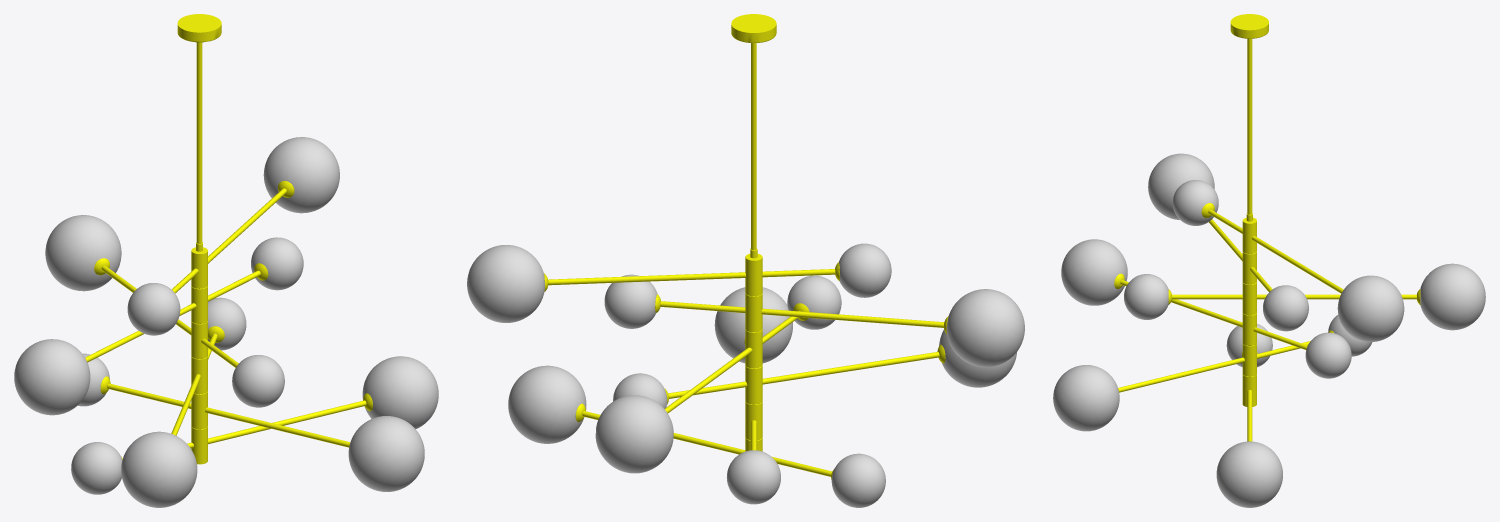
Rendered from designconnected-argento-l-pendant-lamp-8968.optimized.glb.
3 views of the same model, side by side, from view 1: azimuth 30°, elevation 25°; view 2: azimuth 150°, elevation 25°; view 3: azimuth 270°, elevation 25° (orthographic). The views are drawn at different scales.
Visible parts, largest first — view 1: Eichholtz_Argento_L_mat1; view 2: Eichholtz_Argento_L_mat1; view 3: Eichholtz_Argento_L_mat1.
Boxes of the visible parts, <box> form: Eichholtz_Argento_L_mat1: <box>14,14,438,507</box>; Eichholtz_Argento_L_mat1: <box>467,14,1024,507</box>; Eichholtz_Argento_L_mat1: <box>1053,14,1485,507</box>.
Bounding box in the file's own units: 1.31 × 1.25 × 1.24.
